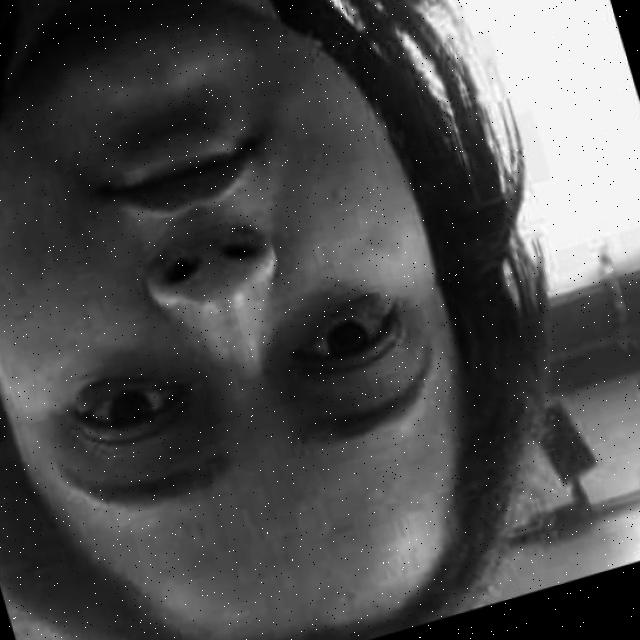puffy_eyes: (74, 377, 147, 415)
